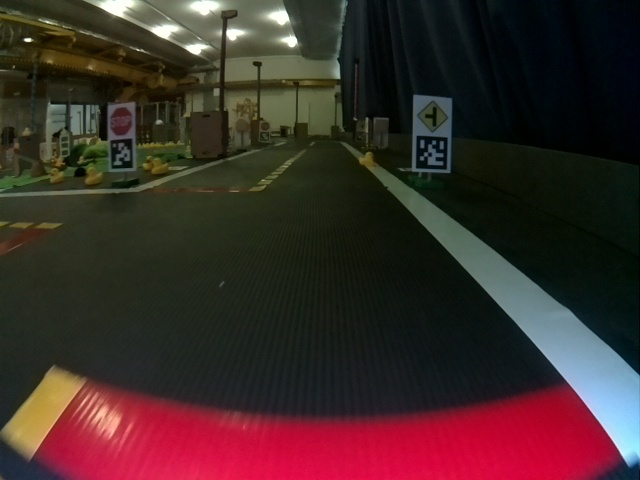Duckie: (85, 168, 103, 184), (152, 158, 168, 174), (360, 152, 373, 165), (50, 169, 62, 183), (144, 156, 152, 169)
Intersection sign: (416, 101, 448, 133)
QR code: (417, 136, 446, 171), (110, 139, 134, 169)
Stop sign: (109, 108, 133, 136), (261, 122, 269, 131)
